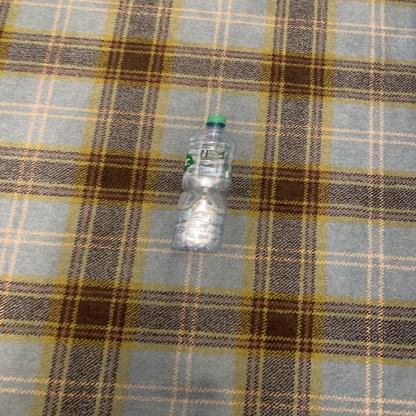trash: (173, 115, 238, 255)
